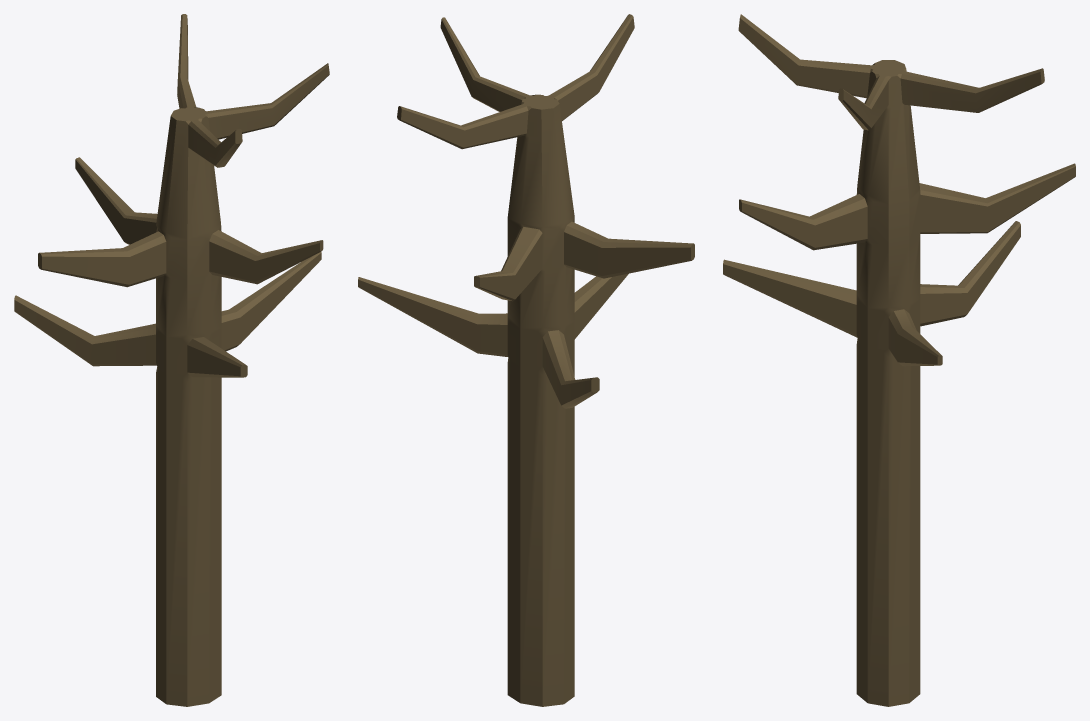
Rendered from GameJam_Tree1DEAD.fbx.
3 renders of one model, left to right at view 1: azimuth 30°, elevation 25°; view 2: azimuth 150°, elevation 25°; view 3: azimuth 270°, elevation 25°, orthographic. The views are drawn at different scales.
Visible parts, largest first — view 1: Tree1; view 2: Tree1; view 3: Tree1.
Part boxes in pixels (x1,y1,x2,y2): Tree1: (14, 14, 329, 706); Tree1: (358, 14, 694, 706); Tree1: (723, 14, 1075, 706).
Size of the model in its own units: 4.12 by 8.02 by 3.85.
